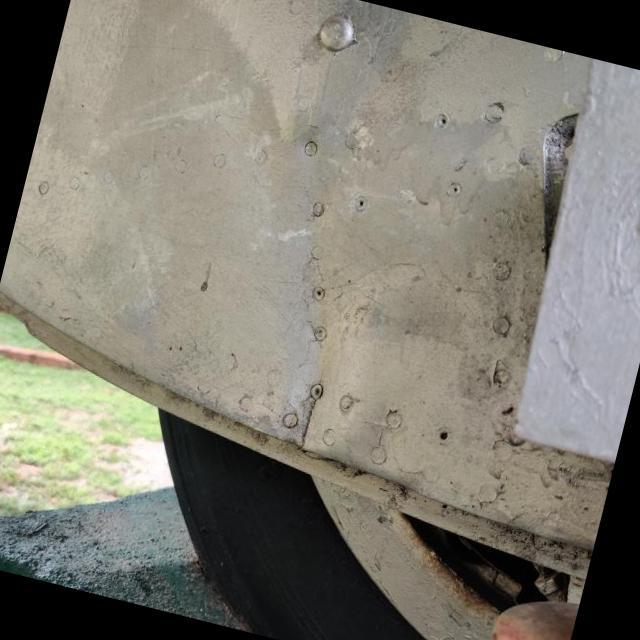Rupture: (274, 380, 341, 456)
